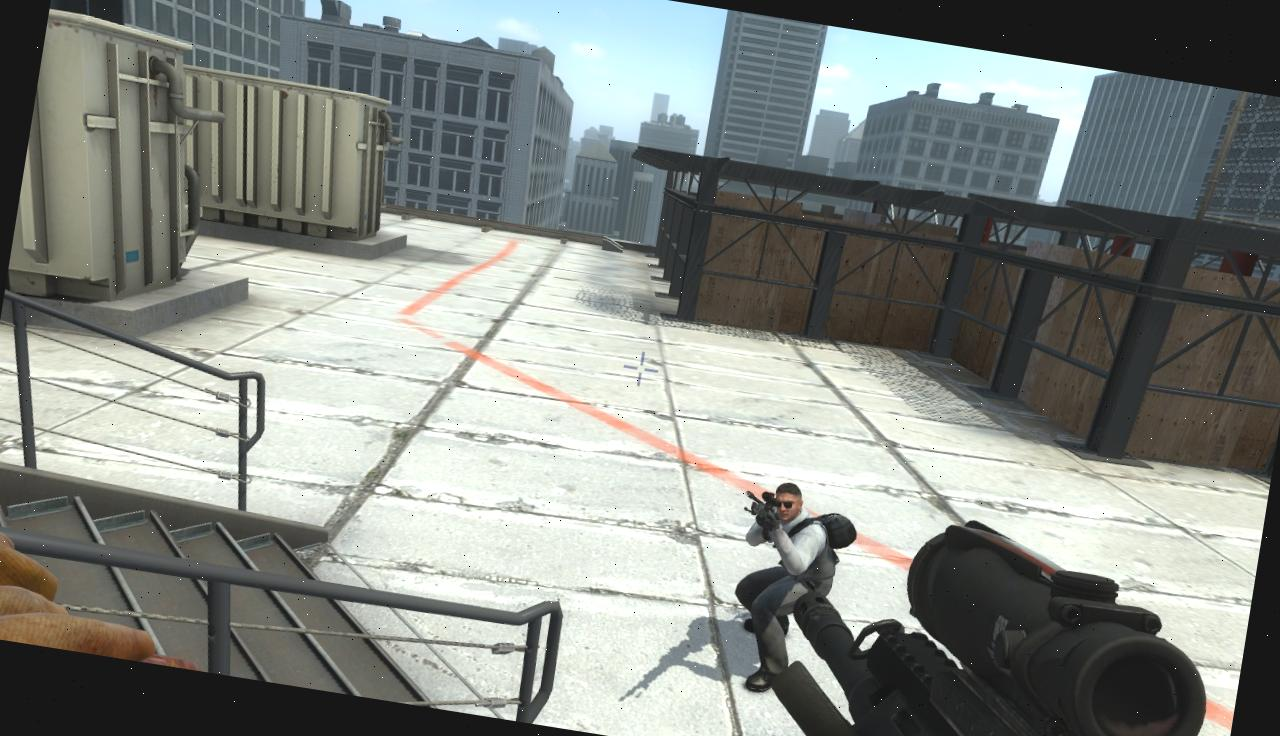rifle: (771, 490, 1233, 736)
tt: (736, 476, 846, 594)
tthead: (770, 482, 804, 524)
